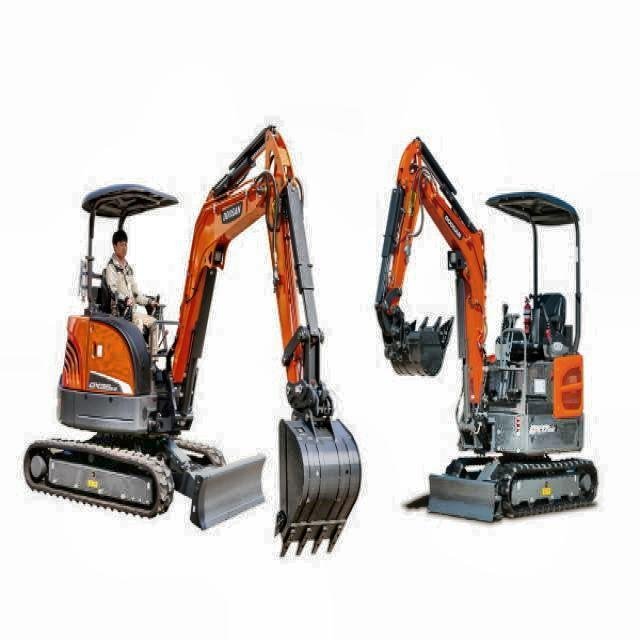bull_dozer/loader/grader: (21, 122, 364, 558), (374, 132, 600, 528)
person: (101, 231, 170, 354)
